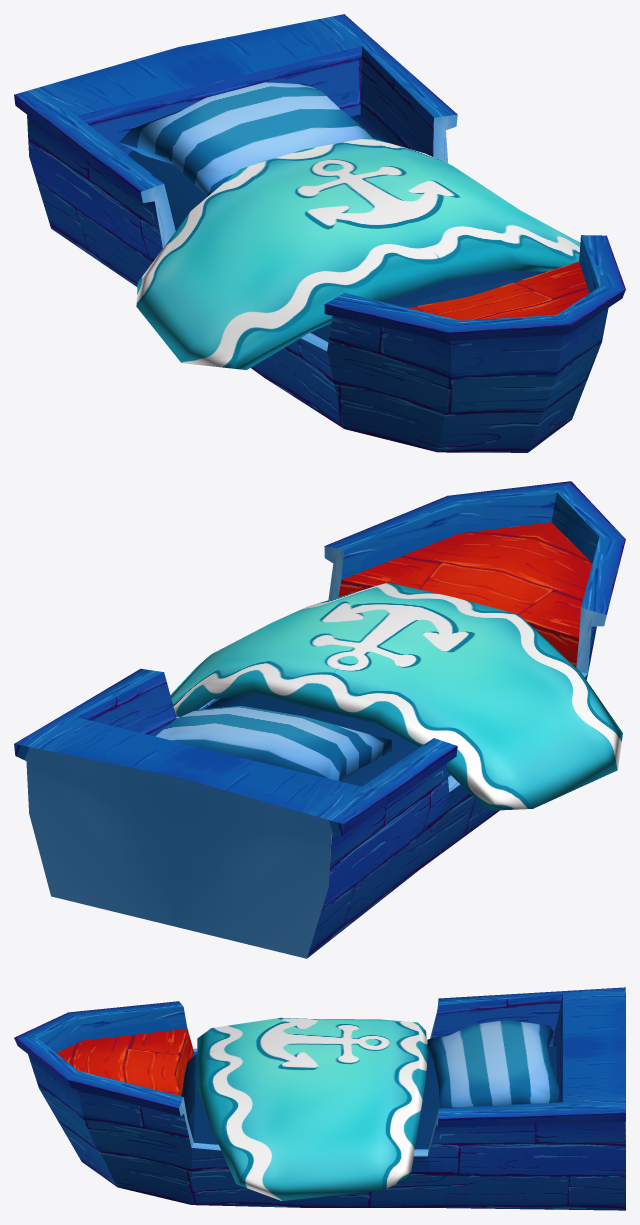
File: bedTier1Lv1.fbx
The picture shows the model from 3 angles, top to bottom: view 1: azimuth 30°, elevation 25°; view 2: azimuth 150°, elevation 25°; view 3: azimuth 270°, elevation 25°; orthographic projection. The views are drawn at different scales.
Visible parts, largest first — view 1: polySurface36, polySurface105, polySurface107, polySurface106; view 2: polySurface36, polySurface105, polySurface107, polySurface106; view 3: polySurface36, polySurface105, polySurface107, polySurface106.
Part boxes in pixels (x1,y1,x2,y2): polySurface36: (14,14,625,452); polySurface105: (136,137,580,369); polySurface107: (119,82,372,195); polySurface106: (128,116,544,342); polySurface36: (14,481,625,958); polySurface105: (170,582,622,810); polySurface107: (155,706,392,781); polySurface106: (205,694,450,786); polySurface36: (14,987,625,1210); polySurface105: (197,1017,427,1200); polySurface107: (427,1020,559,1108); polySurface106: (181,1046,556,1149).
Size of the model in its own units: 6.52 by 2.35 by 10.51.
